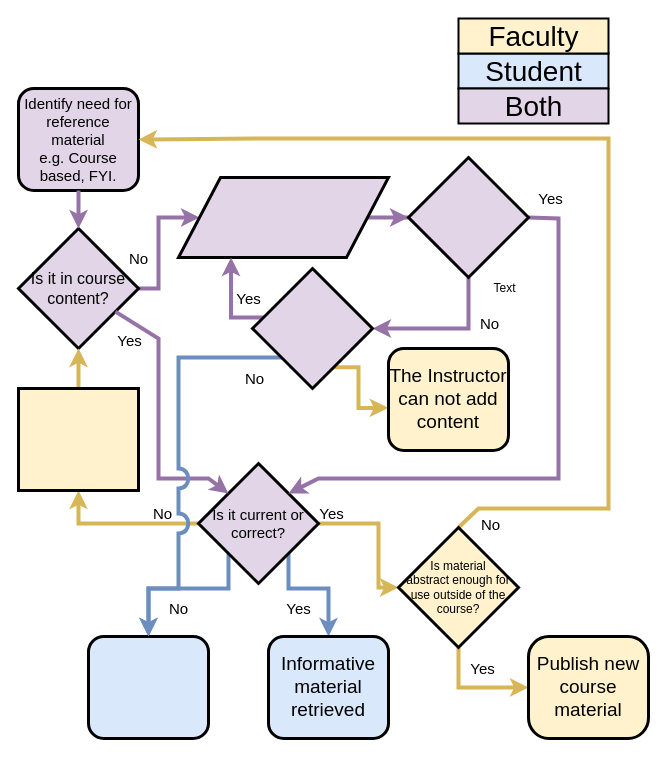
The diagram is 667 pixels wide and 757 high, and some of its shapes have lost their labels. The shapes that lost their labels are listed below. From the top down, each one's box as (x1, y1, x2, y2) in pixels, then its label:
(176, 176, 390, 258): Email an Instructor or research using outside methods such as a web search
(406, 156, 530, 278): Is material informative and timely?
(250, 266, 374, 390): Try Again?
(16, 386, 140, 492): Update material
(86, 634, 210, 740): Informative material not retrieved
